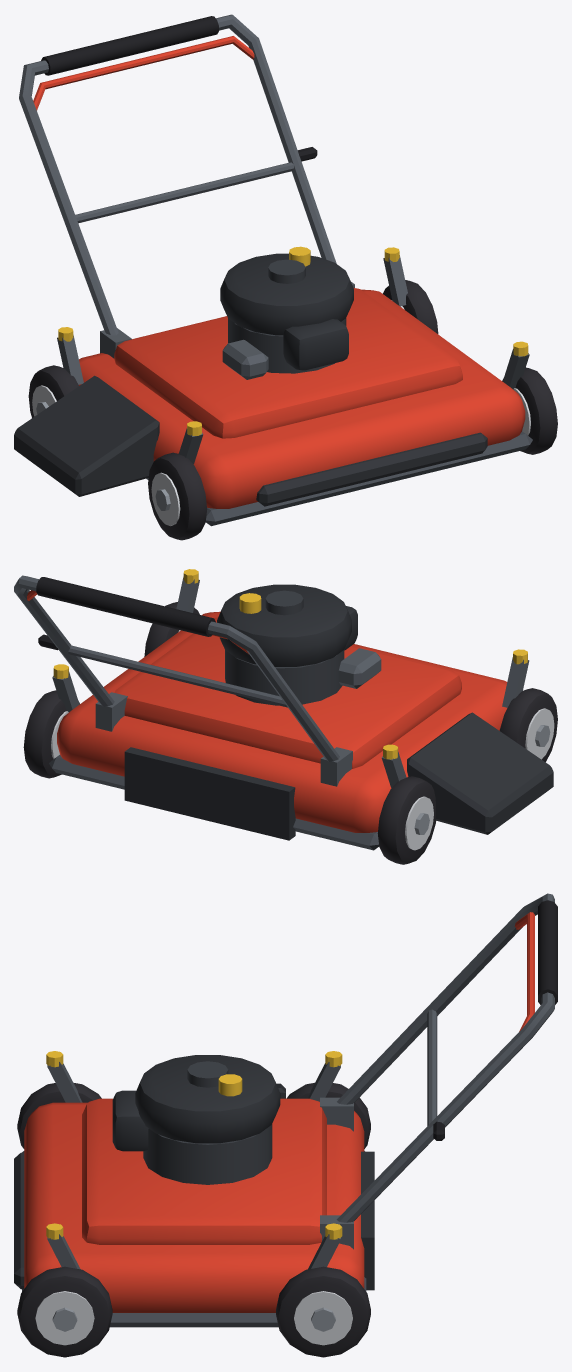
File: mower_push.glb
The picture shows the model from 3 angles, top to bottom: view 1: azimuth 30°, elevation 25°; view 2: azimuth 150°, elevation 25°; view 3: azimuth 270°, elevation 25°; orthographic projection. The views are drawn at different scales.
Visible parts, largest first — view 1: Deck, Chassis, Wheel_FR, Wheel_FL, Wheel_RR, Wheel_RL; view 2: Deck, Chassis, Wheel_RR, Wheel_FR, Wheel_RL, Wheel_FL; view 3: Deck, Chassis, Wheel_FL, Wheel_RL, Wheel_FR, Wheel_RR.
Part boxes in pixels (<box>): Deck: <box>79,288,532,526</box>; Chassis: <box>14,14,529,496</box>; Wheel_FR: <box>148,452,207,540</box>; Wheel_FL: <box>502,367,557,454</box>; Wheel_RR: <box>28,365,78,417</box>; Wheel_RL: <box>383,280,438,333</box>; Deck: <box>49,611,507,850</box>; Chassis: <box>14,569,553,834</box>; Wheel_RR: <box>377,776,436,864</box>; Wheel_FR: <box>499,688,557,762</box>; Wheel_RL: <box>23,690,79,778</box>; Wheel_FL: <box>144,602,199,656</box>; Deck: <box>14,1098,374,1327</box>; Chassis: <box>46,893,557,1269</box>; Wheel_FL: <box>17,1266,112,1357</box>; Wheel_RL: <box>276,1266,370,1357</box>; Wheel_FR: <box>17,1083,101,1148</box>; Wheel_RR: <box>286,1082,370,1148</box>.
Bounding box in the file's own units: 1.58 × 1.03 × 1.6.
